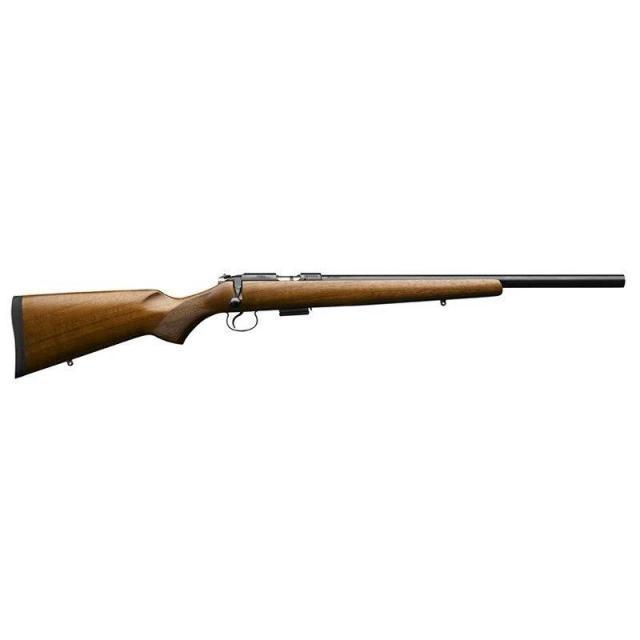weapon: (10, 270, 627, 380)
